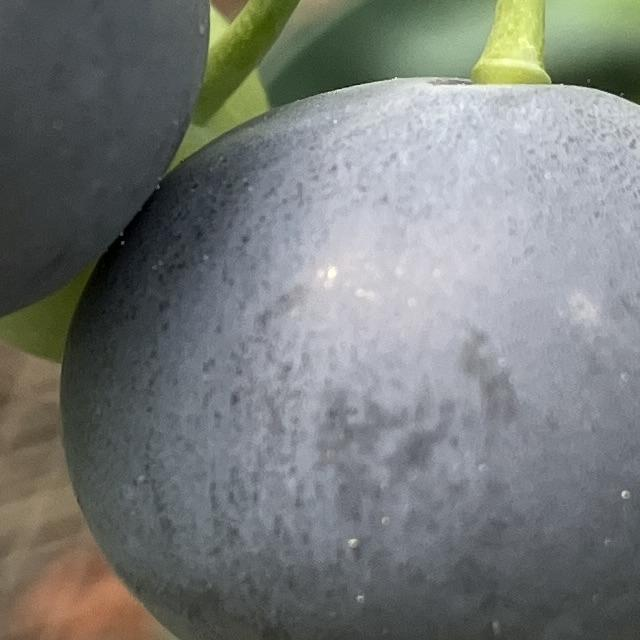Blueberries: (57, 67, 640, 640)
